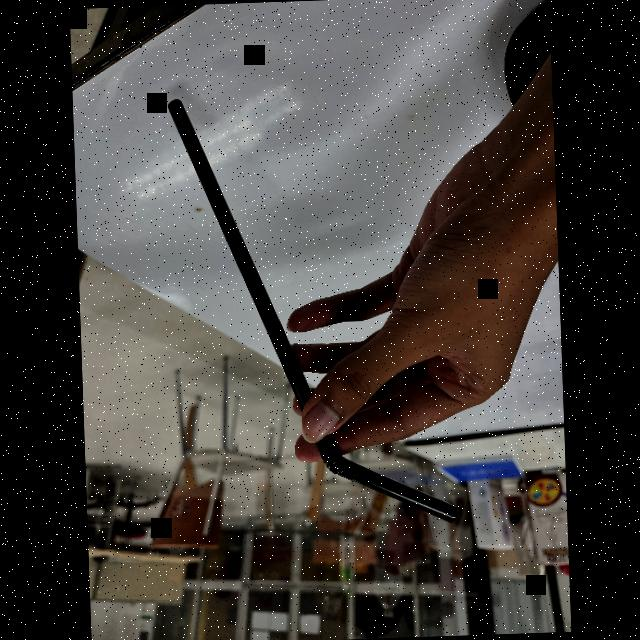straw: (160, 76, 462, 532)
